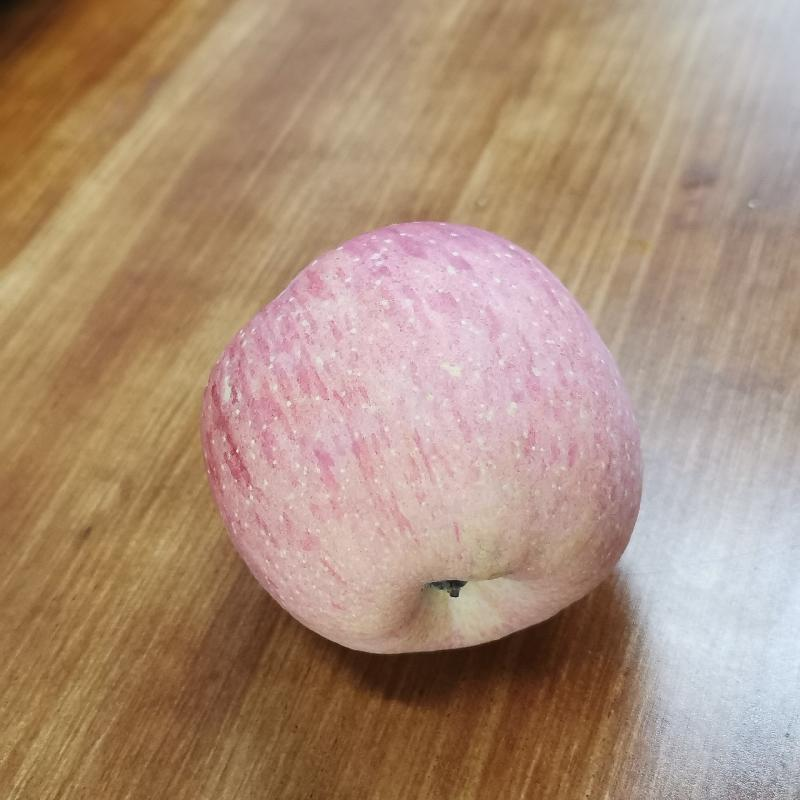apples: (197, 218, 645, 663)
